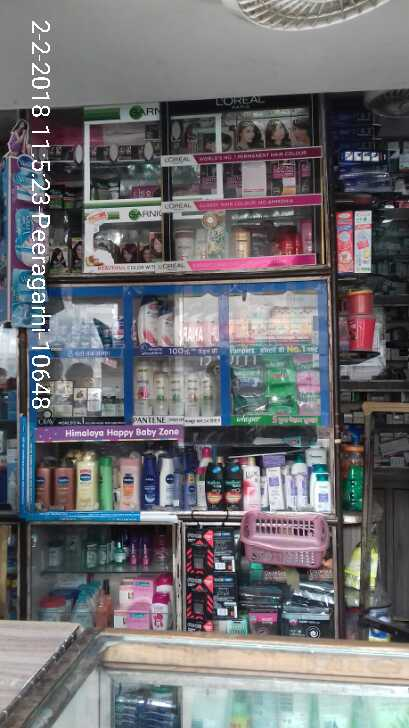vicks: (43, 306, 117, 353)
